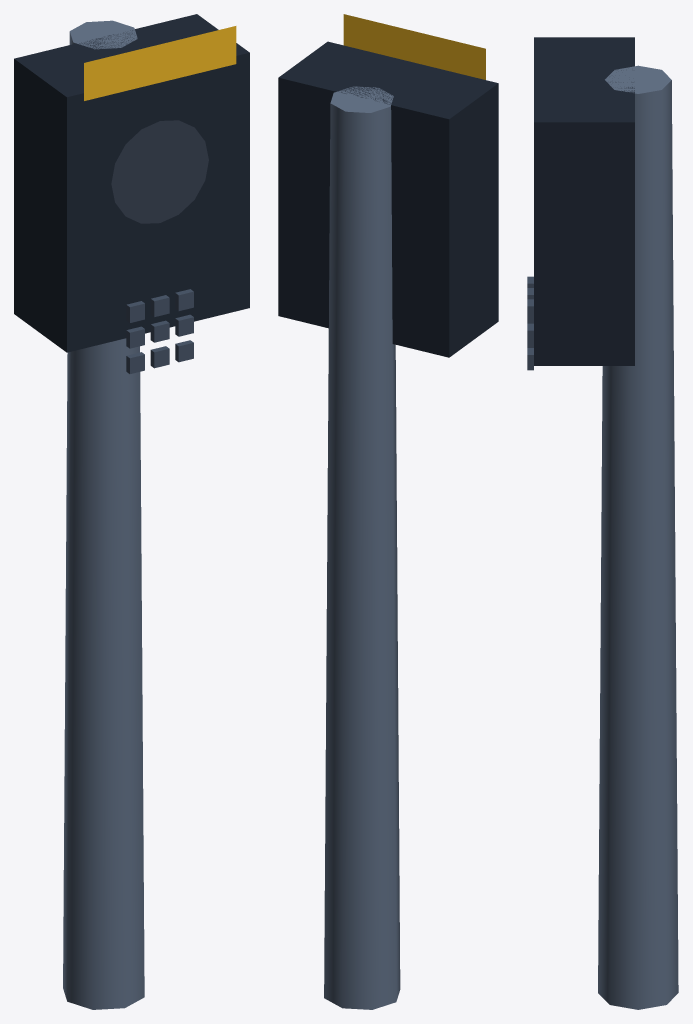
The model's file is yard-intercom-body-authored-atlas.glb.
3 views of the same model, side by side, from view 1: azimuth 30°, elevation 25°; view 2: azimuth 150°, elevation 25°; view 3: azimuth 270°, elevation 25° (orthographic). The views are drawn at different scales.
Visible parts, largest first — view 1: Authored surface.064; view 2: Authored surface.064; view 3: Authored surface.064.
Boxes of the visible parts, x1=… form: Authored surface.064: x1=14, y1=14, x2=249, y2=1009; Authored surface.064: x1=278, y1=14, x2=498, y2=1009; Authored surface.064: x1=527, y1=37, x2=678, y2=1009.
Size of the model in its own units: 0.3 by 1.55 by 0.225.
Materials: 1 (1 with a texture image).
